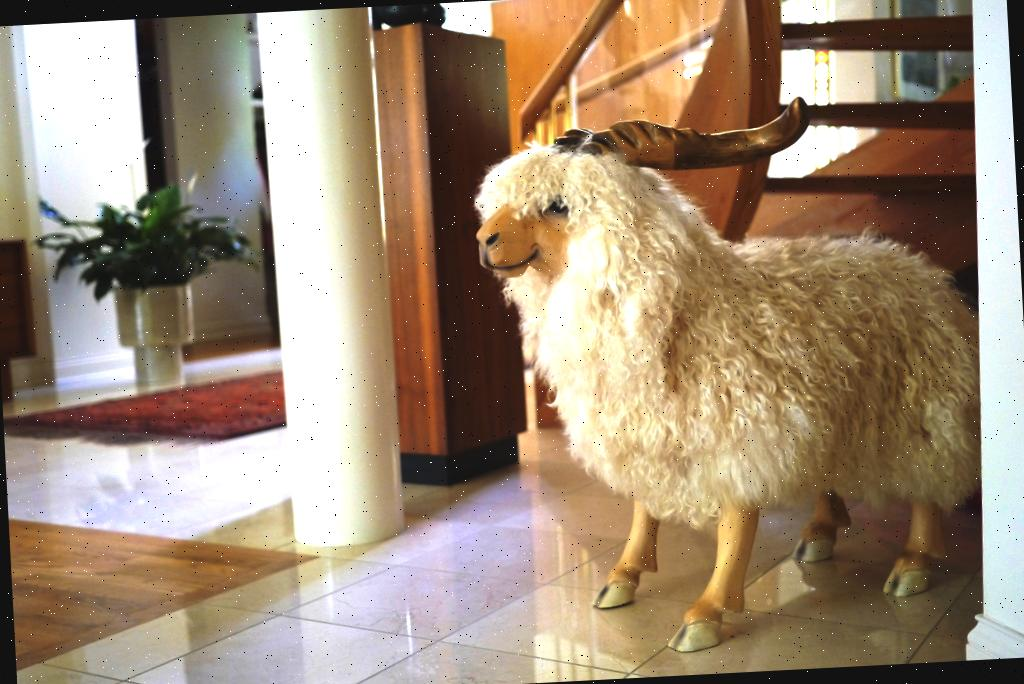Sheep: (470, 90, 998, 662)
